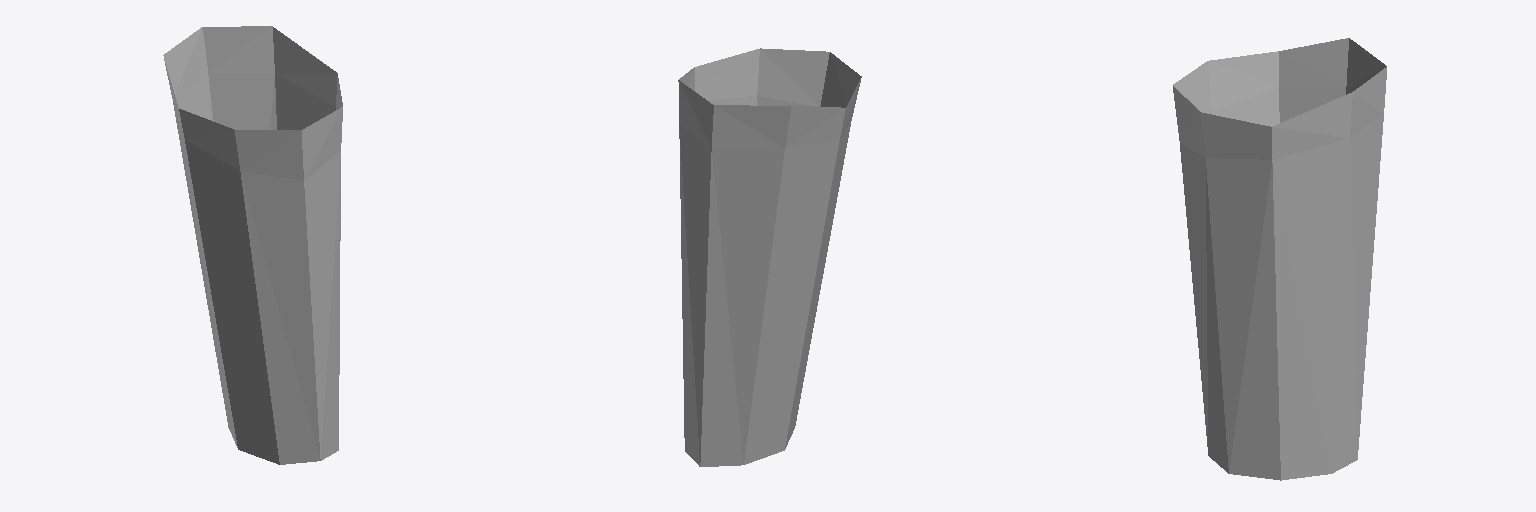
Rendered from low_legs_R.obj.
3 views of the same model, side by side, from view 1: azimuth 30°, elevation 25°; view 2: azimuth 150°, elevation 25°; view 3: azimuth 270°, elevation 25° (orthographic).
Visible parts, largest first — view 1: KERORO; view 2: KERORO; view 3: KERORO.
Part boxes in pixels (x1,y1,x2,y2): KERORO: (163,26,342,464); KERORO: (678,48,861,466); KERORO: (1173,38,1386,480).
Size of the model in its own units: 0.4989 by 1.17 by 0.5979.